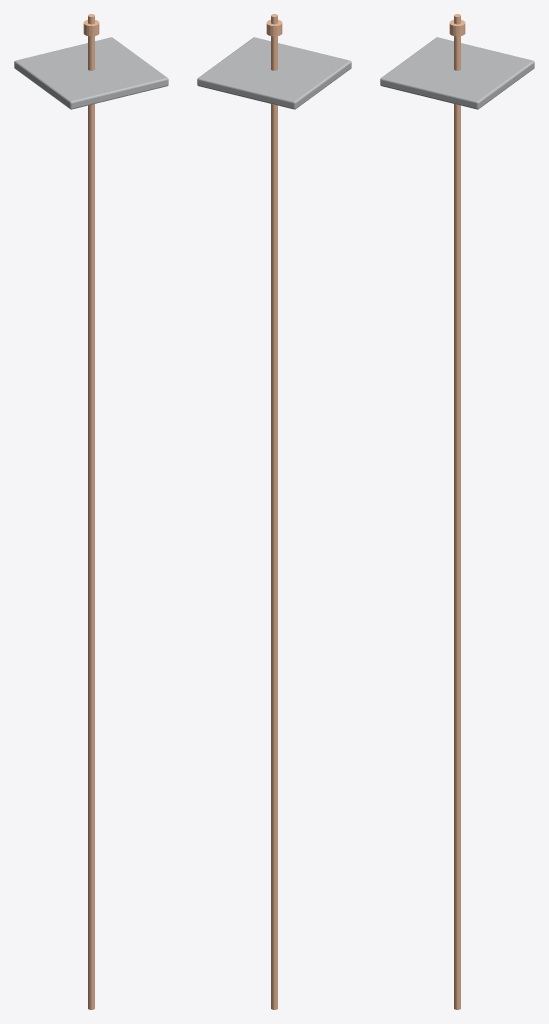
The model's file is generic-ground-rod-2400x16.glb.
3 renders of one model, left to right at view 1: azimuth 30°, elevation 25°; view 2: azimuth 150°, elevation 25°; view 3: azimuth 330°, elevation 25°, orthographic.
Visible parts, largest first — view 1: rod, pit; view 2: rod, pit; view 3: rod, pit.
Part boxes in pixels (<box>): rod: <box>88,14,94,1009</box>; pit: <box>14,37,168,109</box>; rod: <box>271,14,277,1009</box>; pit: <box>197,37,351,109</box>; rod: <box>454,14,460,1009</box>; pit: <box>380,37,534,109</box>.
Bounding box in the file's own units: 0.25 × 2.4 × 0.25.
